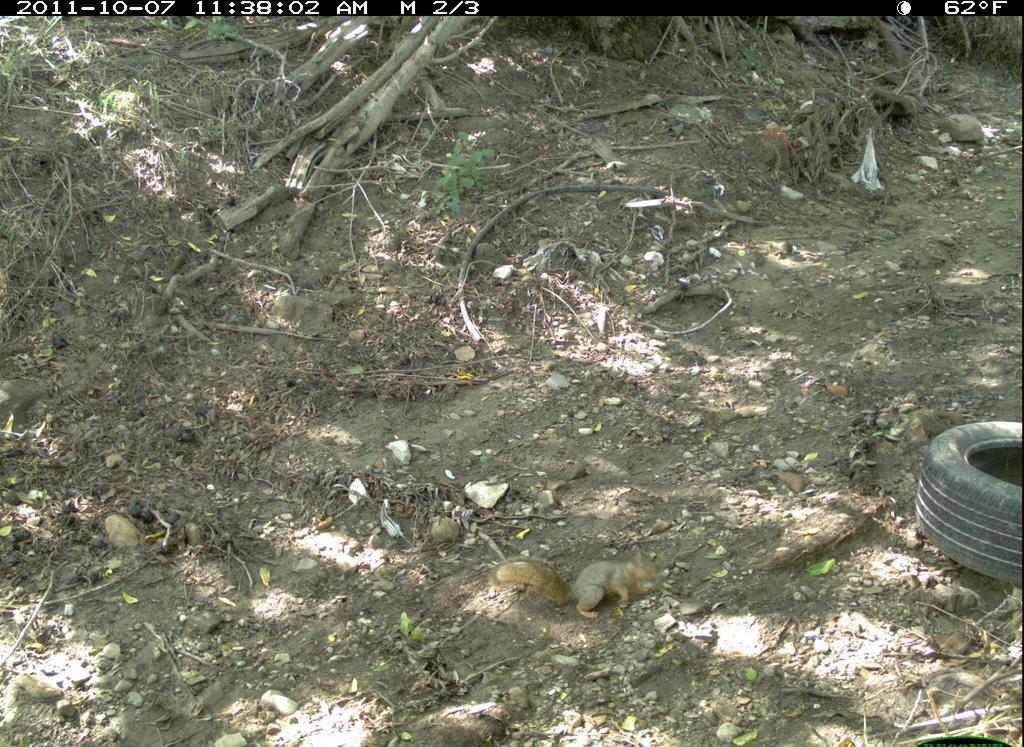squirrel: (487, 543, 664, 624)
